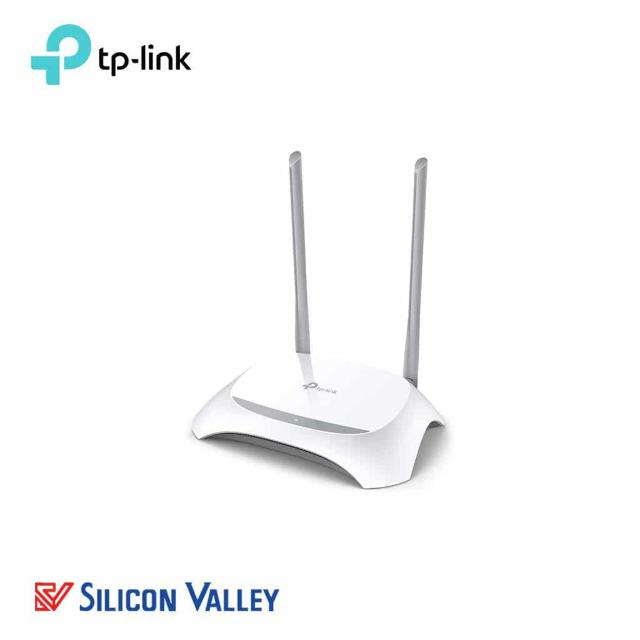Router: (191, 151, 445, 491)
